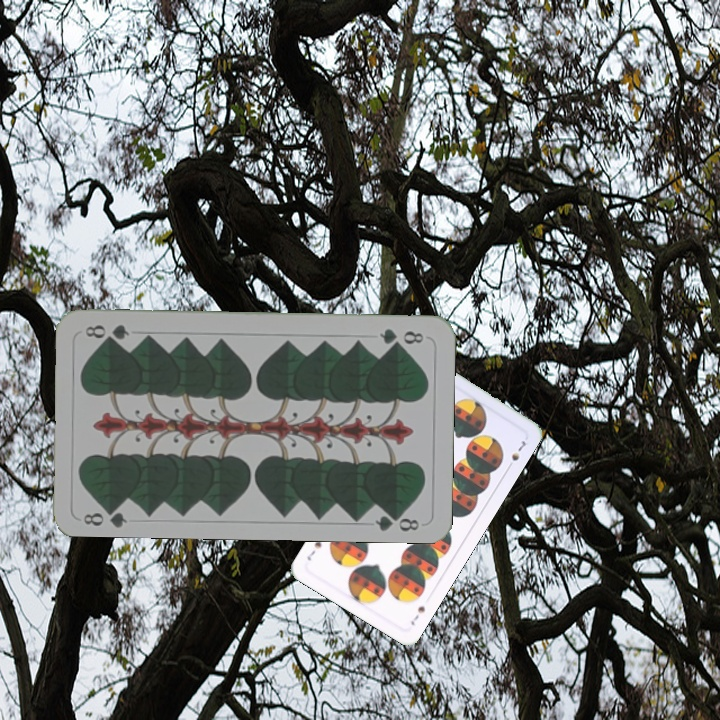G8: (80, 502, 130, 529), (375, 324, 426, 348)
S7: (406, 602, 428, 628)
